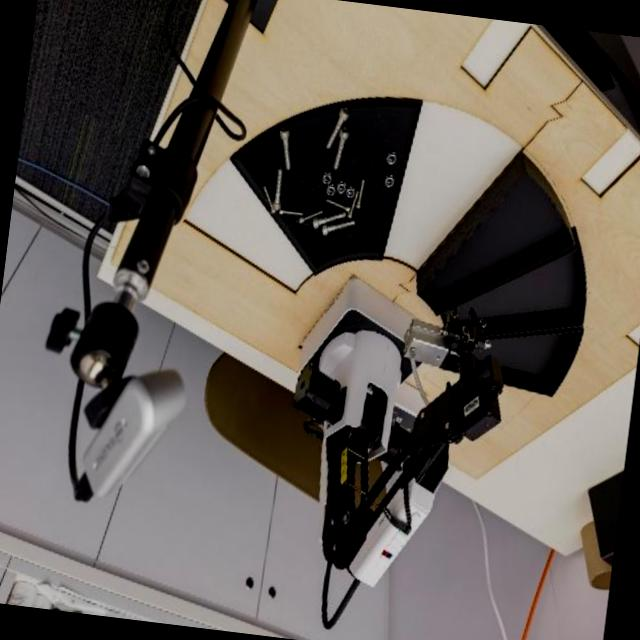big: (317, 104, 353, 151), (327, 125, 350, 172), (316, 212, 357, 238), (311, 210, 347, 230), (278, 124, 292, 174), (270, 167, 285, 212)
board: (219, 81, 419, 278)
box: (383, 150, 580, 334), (424, 231, 599, 349), (433, 306, 588, 404)
circle: (383, 147, 398, 168), (380, 172, 396, 190), (334, 178, 350, 195), (320, 171, 334, 186), (345, 185, 357, 200), (325, 183, 337, 198)
small: (296, 204, 327, 226), (258, 183, 278, 216), (323, 195, 352, 215), (346, 187, 361, 219), (354, 175, 367, 210), (277, 208, 304, 220)
